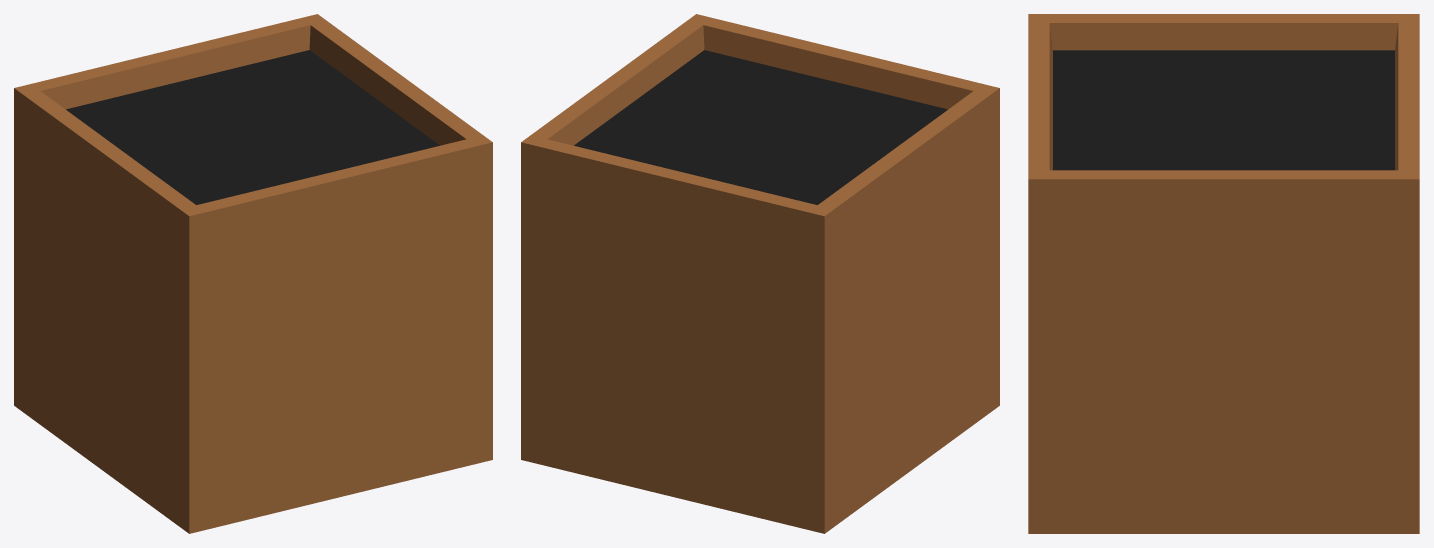
File: Compost.fbx
The picture shows the model from 3 angles, left to right: view 1: azimuth 30°, elevation 25°; view 2: azimuth 150°, elevation 25°; view 3: azimuth 270°, elevation 25°; orthographic projection. The views are drawn at different scales.
Visible parts, largest first — view 1: Compost; view 2: Compost; view 3: Compost.
Boxes of the visible parts, x1,y1,x2,y2 form: Compost: (14,14,492,533); Compost: (521,14,999,533); Compost: (1028,14,1419,533).
Bounding box in the file's own units: 70.79 × 70.79 × 70.79.
